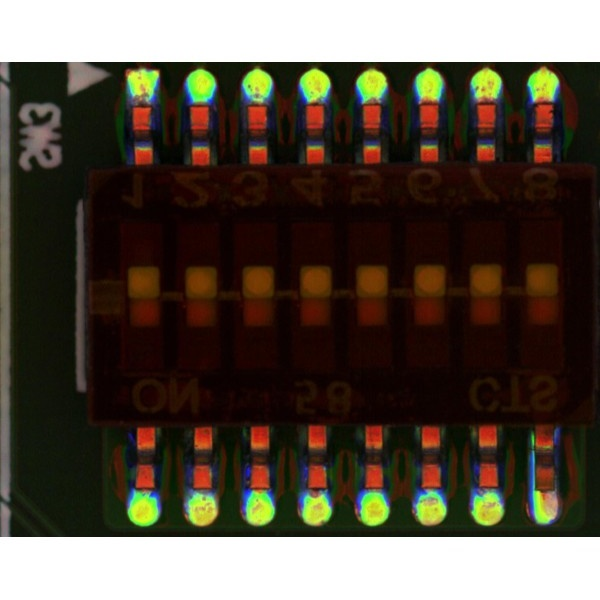Bad_podu: (538, 481, 554, 503)
Bad_qiaojiao: (529, 432, 537, 489)
